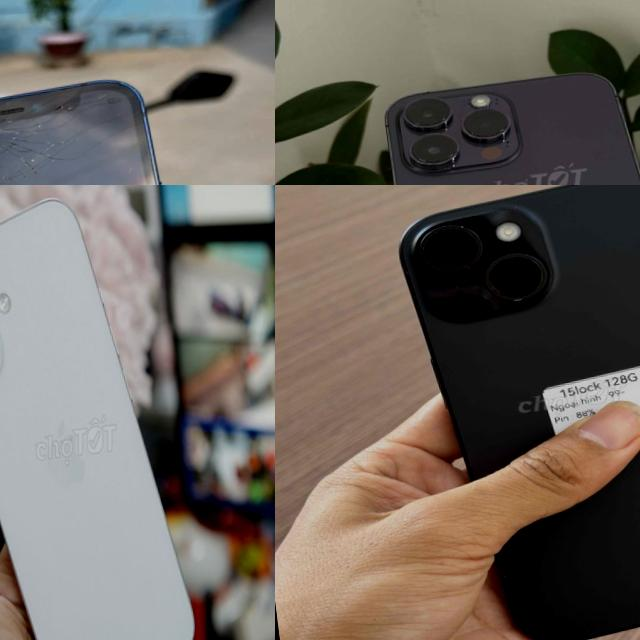gen_12_13: (0, 68, 226, 185)
gen_14: (363, 46, 640, 185)
gen_15: (377, 185, 640, 640)
gen_16: (0, 185, 212, 640)
